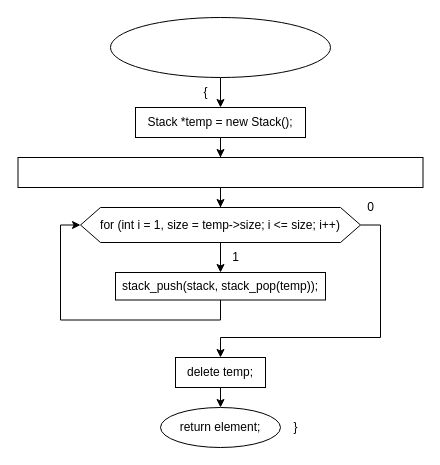
Some shapes in this 440 by 465 pixel diagram are drawn without their labels. The centre of each missing label's shape, as x and y in pixels:
StackElement *element = _stack_recursive_remove(stack, temp, key);: the point at 220,172
StackElement *stack_recursive_remove(Stack *stack, const string key): the point at 220,47
